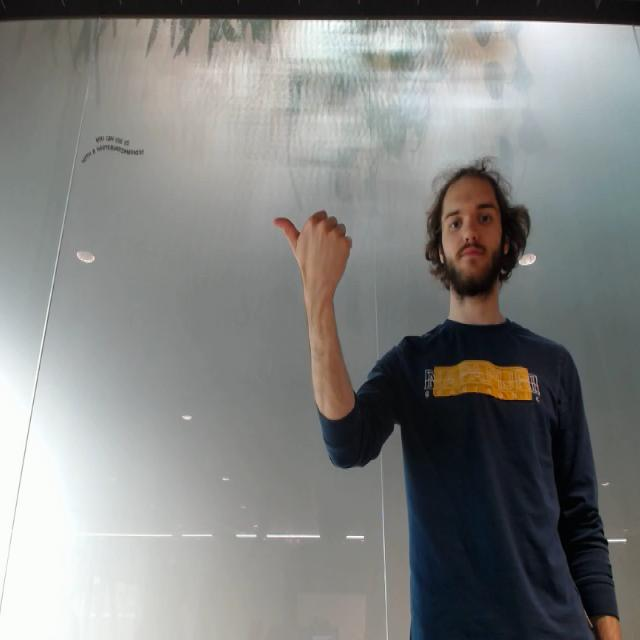left: (270, 204, 356, 300)
